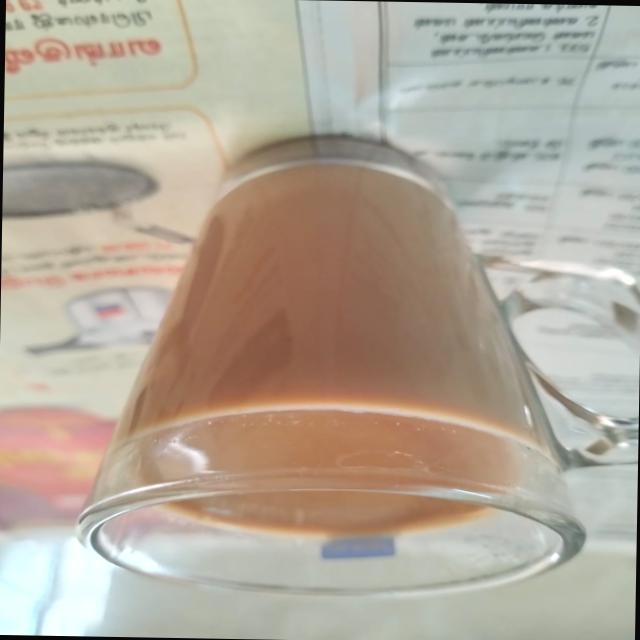glass-VX4N: (77, 129, 640, 597)
